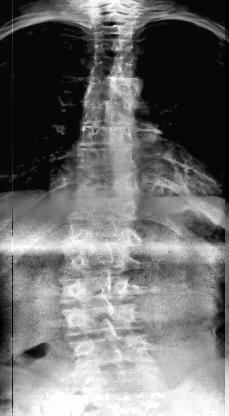Vertebrae: (69, 330, 157, 370), (62, 298, 144, 338), (70, 212, 148, 252), (68, 192, 143, 230), (62, 270, 138, 306), (61, 244, 140, 278), (72, 166, 144, 202), (72, 138, 140, 171), (83, 74, 149, 106), (77, 96, 143, 126), (76, 119, 139, 150), (85, 54, 145, 80), (87, 38, 139, 64), (86, 18, 142, 40)
